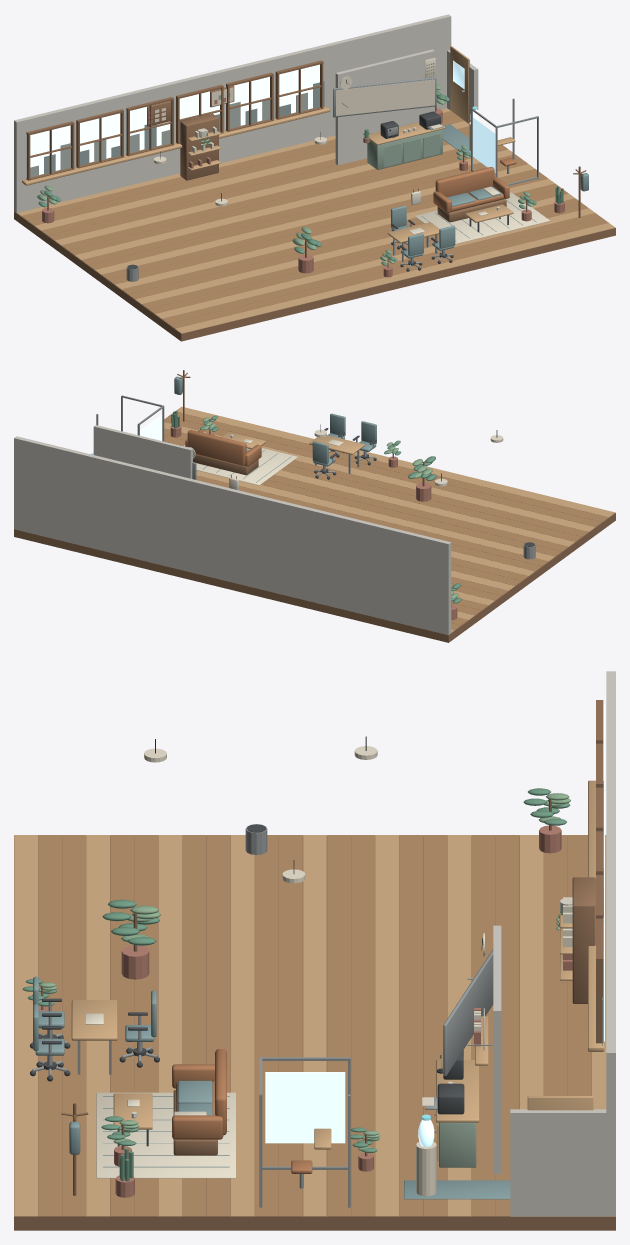
Rendered from room.glb.
3 renders of one model, top to bottom at view 1: azimuth 30°, elevation 25°; view 2: azimuth 150°, elevation 25°; view 3: azimuth 270°, elevation 25°, orthographic. The views are drawn at different scales.
Parts seen in each view (by area): view 1: ROOM_oak_honey, ROOM_oak_light, ROOM_plaster_warm, ROOM_oak_dark, ROOM_window_sky, ROOM_paper_cream, ROOM_leather_cognac, ROOM_felt_sage, ROOM_metal_satin, ROOM_city_light, ROOM_city, ROOM_linen_blue (+4 smaller); view 2: ROOM_plaster_warm, ROOM_oak_honey, ROOM_oak_light, ROOM_oak_dark, ROOM_paper_cream, ROOM_leather_cognac, ROOM_metal_satin, ROOM_leaf, ROOM_terracotta, meeting south left linen_blue, ROOM_leaf_light, meeting north linen_blue (+1 smaller); view 3: ROOM_oak_honey, ROOM_oak_light, ROOM_oak_dark, ROOM_plaster_warm, ROOM_paper_cream, ROOM_window_sky, ROOM_metal_satin, ROOM_linen_blue, ROOM_leaf, ROOM_leather_cognac, ROOM_terracotta, ROOM_felt_sage (+2 smaller).
Part boxes in pixels (x1,y1,x2,y2): ROOM_oak_honey: (21, 111, 608, 328); ROOM_oak_light: (17, 46, 615, 333); ROOM_plaster_warm: (14, 14, 478, 213); ROOM_oak_dark: (14, 60, 615, 341); ROOM_window_sky: (26, 60, 495, 177); ROOM_paper_cream: (154, 58, 549, 243); ROOM_leather_cognac: (433, 157, 516, 212); ROOM_felt_sage: (218, 63, 442, 169); ROOM_metal_satin: (126, 77, 538, 281); ROOM_city_light: (30, 92, 307, 177); ROOM_city: (44, 81, 324, 174); ROOM_linen_blue: (421, 124, 588, 241); ROOM_plaster_warm: (14, 425, 451, 634); ROOM_oak_honey: (164, 412, 608, 629); ROOM_oak_light: (35, 406, 615, 632); ROOM_oak_dark: (14, 370, 615, 642); ROOM_paper_cream: (183, 429, 503, 490); ROOM_leather_cognac: (185, 430, 261, 466); ROOM_metal_satin: (96, 395, 535, 559); ROOM_leaf: (171, 410, 461, 603); ROOM_terracotta: (170, 425, 457, 620); meeting south left linen_blue: (359, 421, 376, 451); ROOM_leaf_light: (203, 417, 458, 598); meeting north linen_blue: (312, 441, 335, 466); ROOM_oak_honey: (38, 835, 591, 1216); ROOM_oak_light: (14, 780, 606, 1216); ROOM_oak_dark: (14, 700, 615, 1230); ROOM_plaster_warm: (493, 671, 615, 1216); ROOM_paper_cream: (85, 746, 572, 1196); ROOM_window_sky: (265, 705, 604, 1146); ROOM_metal_satin: (77, 824, 493, 1207); ROOM_linen_blue: (69, 1080, 510, 1199); ROOM_leaf: (22, 788, 570, 1181); ROOM_leather_cognac: (172, 1049, 312, 1173); ROOM_terracotta: (38, 825, 572, 1197); ROOM_felt_sage: (437, 1122, 476, 1167).
Bounding box in the file's own units: 15.01 × 3.3 × 10.
